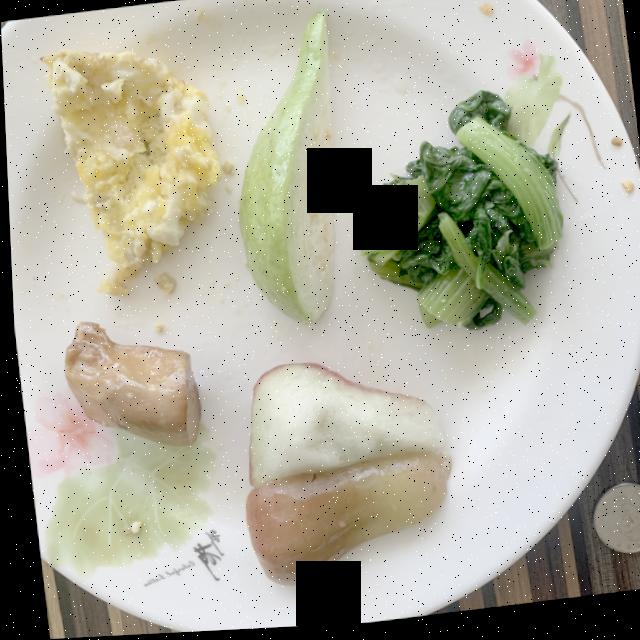coin: (588, 490, 640, 559)
guava -sliced-: (236, 14, 332, 326)
mustard greens: (354, 95, 561, 334)
